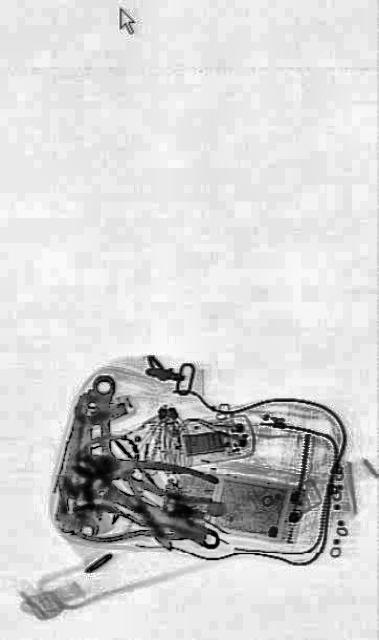Pliers: (100, 447, 218, 507)
Wrench: (55, 439, 223, 565), (92, 374, 118, 524), (72, 402, 98, 540)
